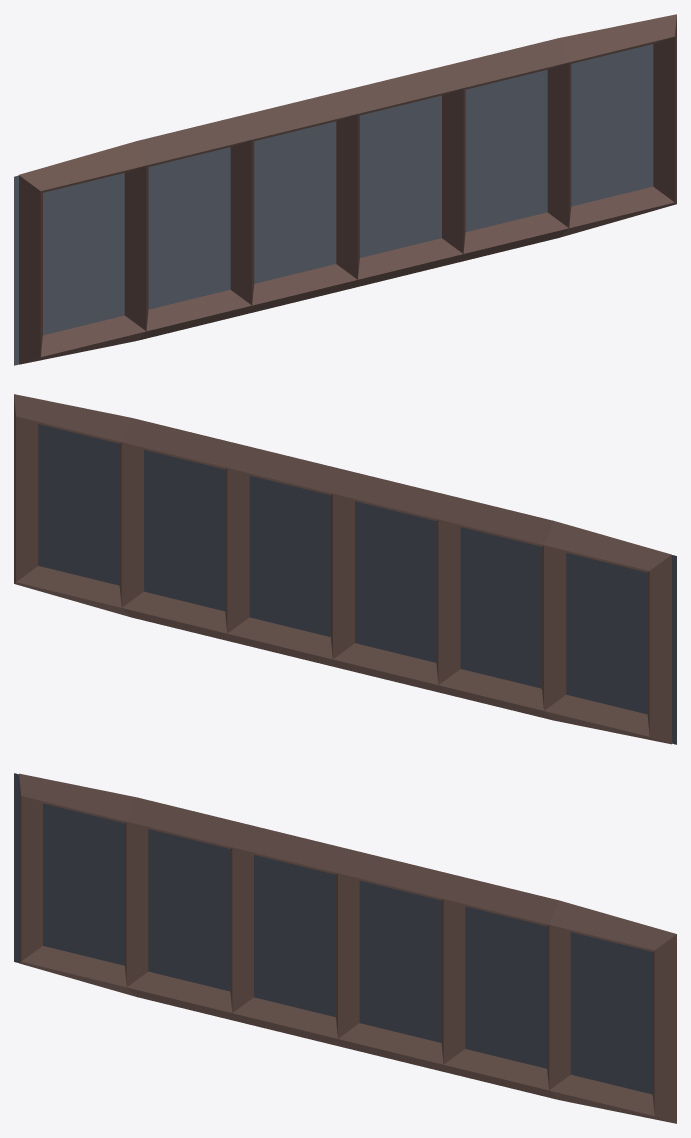
File: SM_Env_Window_17.fbx
The picture shows the model from 3 angles, top to bottom: view 1: azimuth 30°, elevation 25°; view 2: azimuth 150°, elevation 25°; view 3: azimuth 330°, elevation 25°; orthographic projection.
Parts seen in each view (by area): view 1: SM_Env_Window_17; view 2: SM_Env_Window_17; view 3: SM_Env_Window_17.
Part boxes in pixels (bbox=[...]): SM_Env_Window_17: bbox=[14, 14, 676, 365]; SM_Env_Window_17: bbox=[14, 394, 676, 744]; SM_Env_Window_17: bbox=[14, 773, 676, 1123].
Bounding box in the file's own units: 97.28 × 28.02 × 5.11.
1 material, 1 textured.
